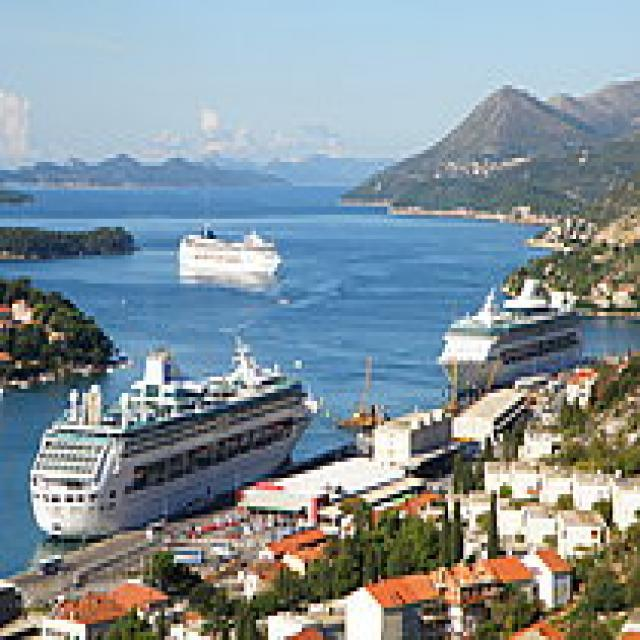Ship: (19, 325, 330, 540), (440, 272, 599, 398), (169, 212, 297, 293)
